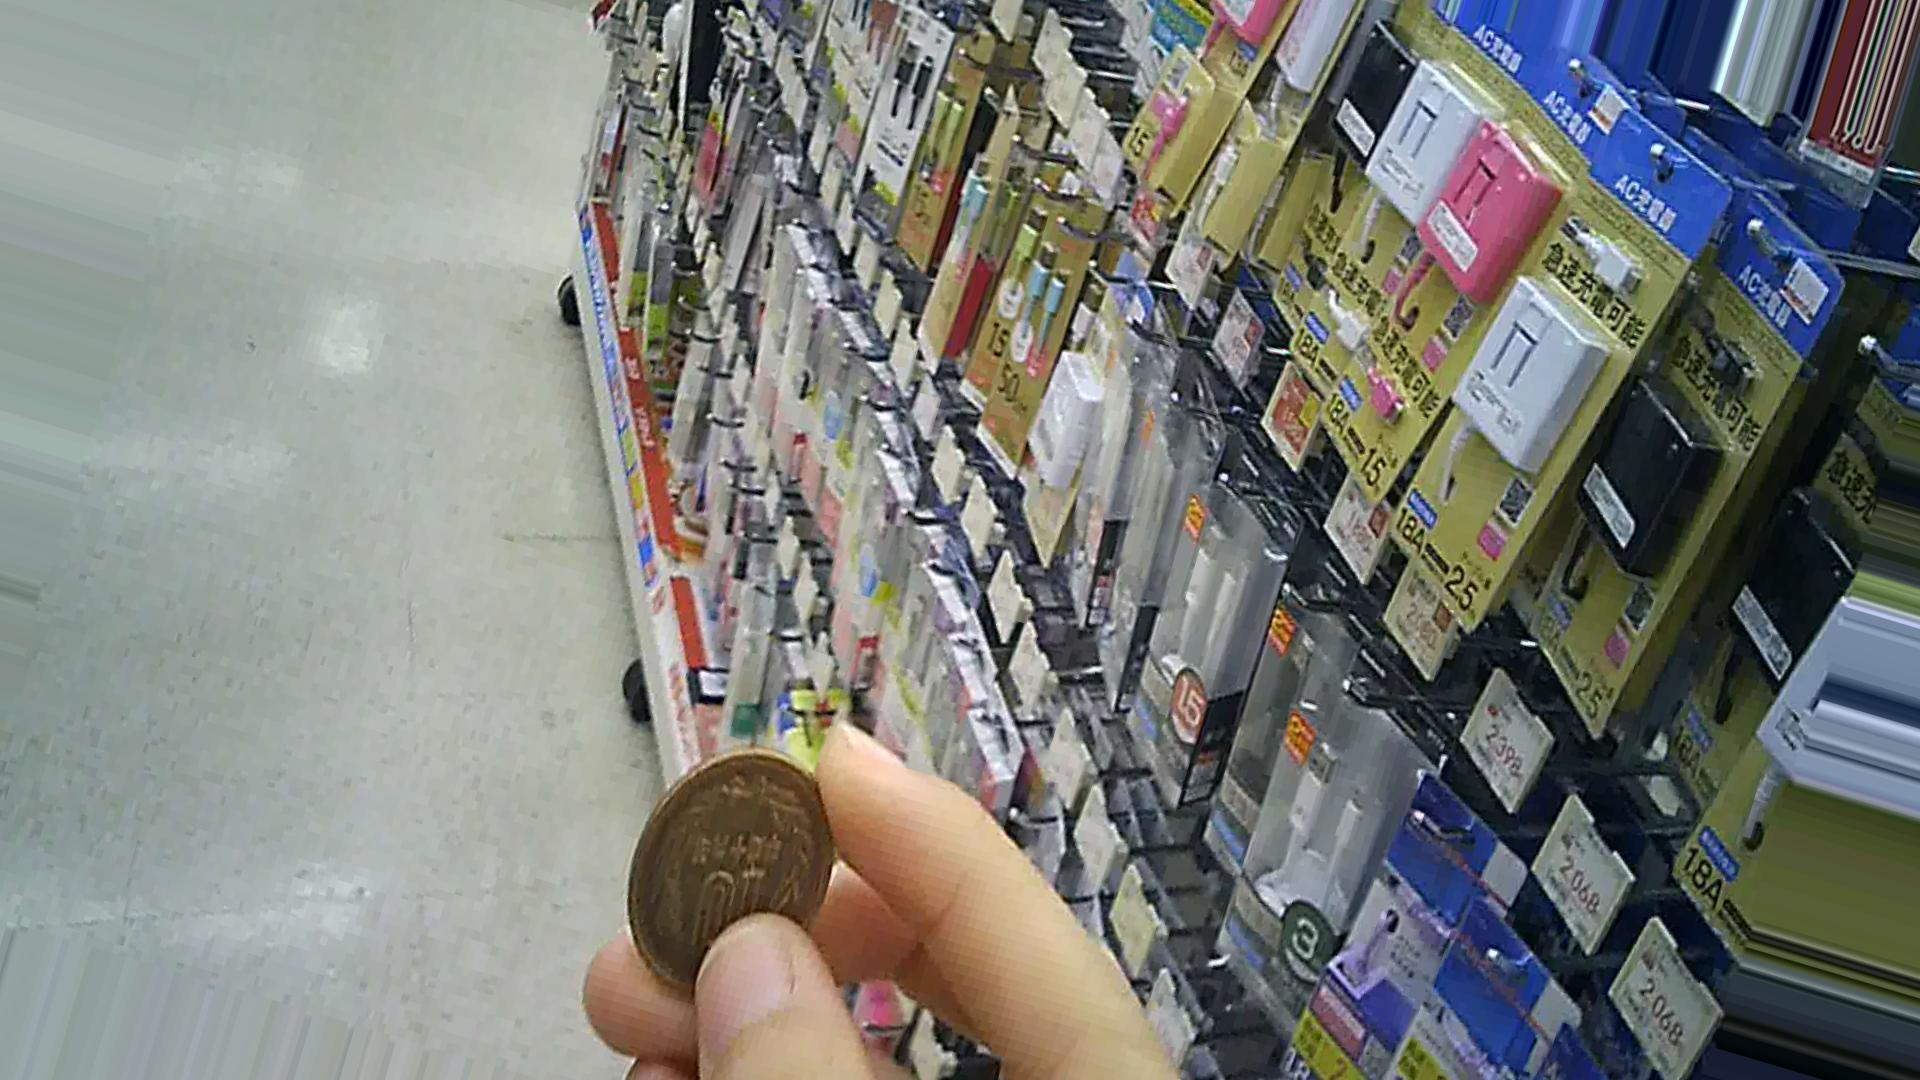10 Yen: (607, 748, 856, 1015)
